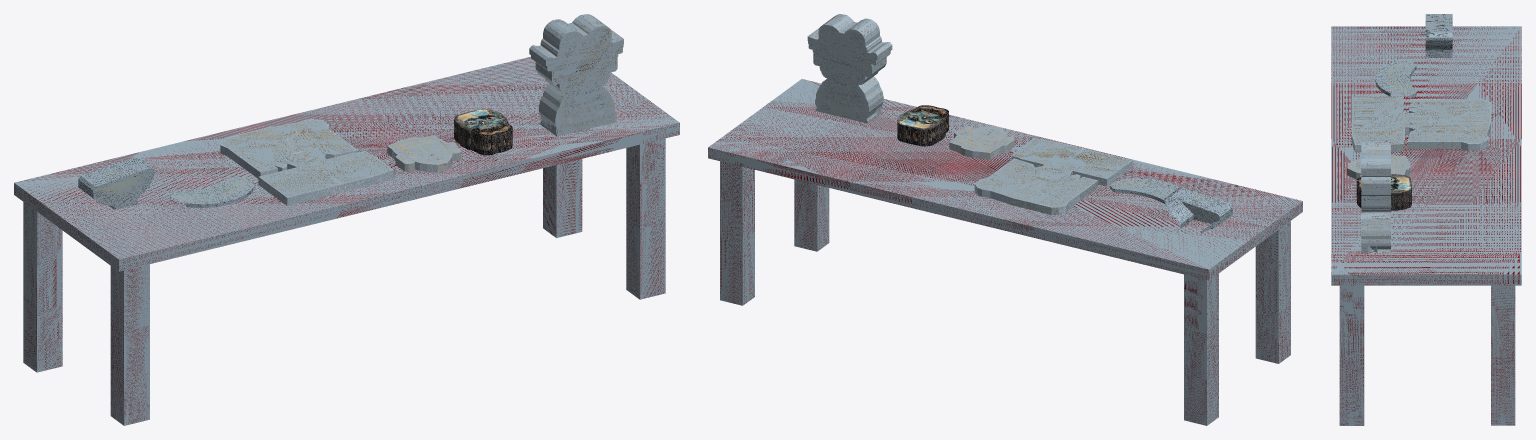
Rendered from accesorios.obj.
3 renders of one model, left to right at view 1: azimuth 30°, elevation 25°; view 2: azimuth 150°, elevation 25°; view 3: azimuth 270°, elevation 25°, orthographic. The views are drawn at different scales.
Visible parts, largest first — view 1: Mesh7 Model, Mesh3 Group4 Group1 Model, Mesh6 Group7 Model, Mesh5 Group6 Group1 Model, Mesh1 Group2 Group1 Model, Mesh2 Group3 Group1 Model, Mesh4 Group5 Group1 Model; view 2: Mesh7 Model, Mesh3 Group4 Group1 Model, Mesh6 Group7 Model, Mesh5 Group6 Group1 Model, Mesh1 Group2 Group1 Model, Mesh2 Group3 Group1 Model, Mesh4 Group5 Group1 Model; view 3: Mesh7 Model, Mesh3 Group4 Group1 Model, Mesh6 Group7 Model, Mesh5 Group6 Group1 Model, Mesh4 Group5 Group1 Model, Mesh1 Group2 Group1 Model, Mesh2 Group3 Group1 Model.
Boxes of the visible parts, <box> form: Mesh7 Model: <box>14,56,679,425</box>; Mesh3 Group4 Group1 Model: <box>220,119,394,205</box>; Mesh6 Group7 Model: <box>529,14,623,136</box>; Mesh5 Group6 Group1 Model: <box>78,157,155,209</box>; Mesh1 Group2 Group1 Model: <box>454,108,512,155</box>; Mesh2 Group3 Group1 Model: <box>387,135,461,172</box>; Mesh4 Group5 Group1 Model: <box>170,176,254,207</box>; Mesh7 Model: <box>708,79,1302,425</box>; Mesh3 Group4 Group1 Model: <box>974,138,1132,214</box>; Mesh6 Group7 Model: <box>807,14,892,123</box>; Mesh5 Group6 Group1 Model: <box>1164,187,1233,233</box>; Mesh1 Group2 Group1 Model: <box>897,105,948,146</box>; Mesh2 Group3 Group1 Model: <box>949,126,1014,159</box>; Mesh4 Group5 Group1 Model: <box>1110,178,1178,203</box>; Mesh7 Model: <box>1331,26,1521,425</box>; Mesh3 Group4 Group1 Model: <box>1351,96,1490,152</box>; Mesh6 Group7 Model: <box>1361,140,1390,253</box>; Mesh5 Group6 Group1 Model: <box>1425,14,1452,57</box>; Mesh4 Group5 Group1 Model: <box>1375,61,1416,98</box>; Mesh1 Group2 Group1 Model: <box>1356,174,1411,210</box>; Mesh2 Group3 Group1 Model: <box>1347,155,1410,179</box>.
Size of the model in its own units: 404 by 193 by 131.
